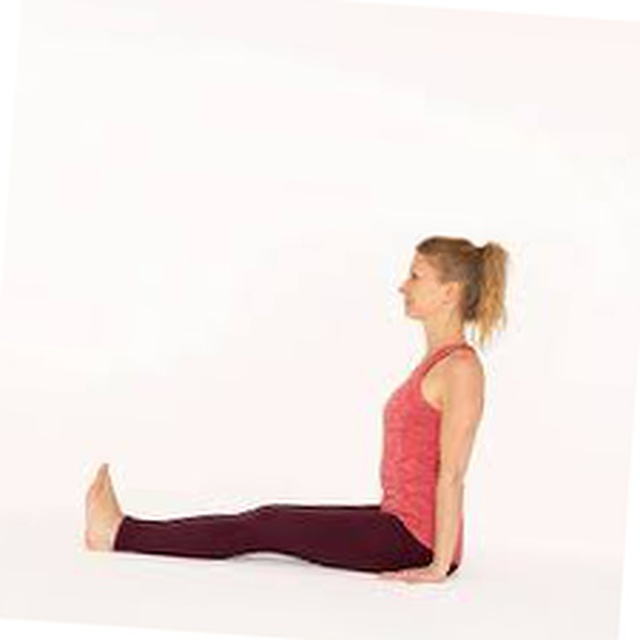Staff_Pose: (85, 236, 509, 584)
